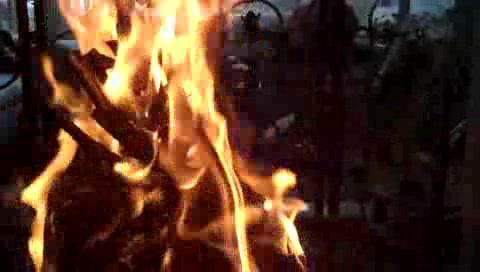fire: (40, 3, 257, 272)
